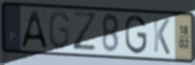8: (101, 12, 120, 54)
A: (19, 9, 49, 50)
G: (124, 14, 149, 56), (48, 10, 71, 51)
K: (152, 16, 172, 57)
Z: (71, 10, 99, 53)
